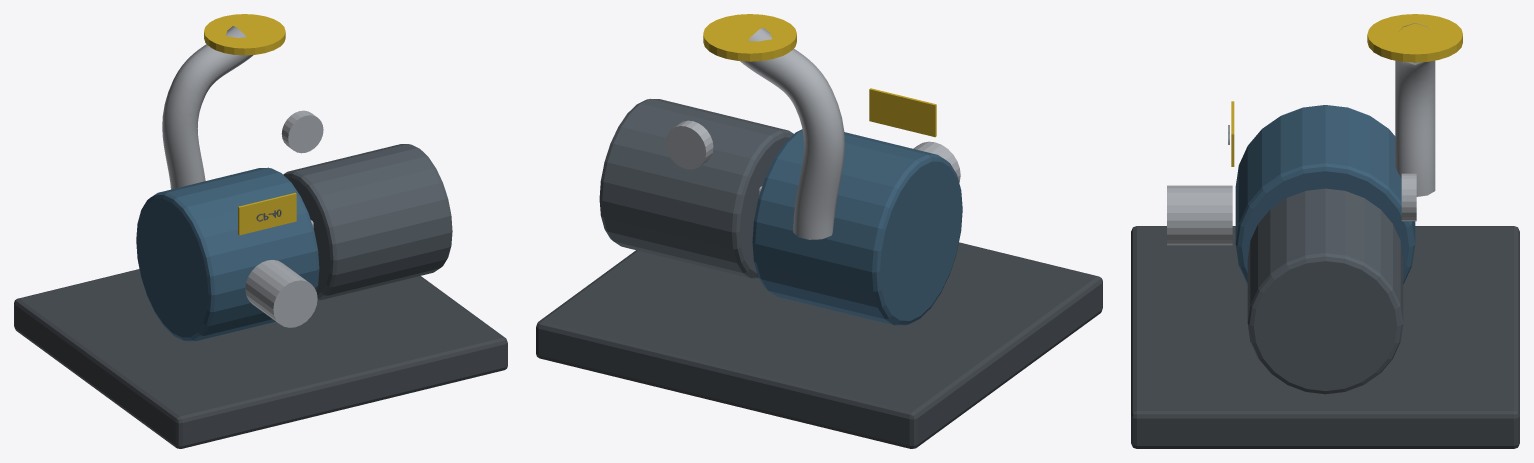
Rendered from aux_pump.glb.
The picture shows the model from 3 angles, left to right: view 1: azimuth 30°, elevation 25°; view 2: azimuth 150°, elevation 25°; view 3: azimuth 270°, elevation 25°; orthographic projection. The views are drawn at different scales.
Visible parts, largest first — view 1: pump_base, pump_body, pump_motor, pump_pipe_up, pump_suction, pump_handwheel, pump_plate, pump_gauge; view 2: pump_base, pump_body, pump_motor, pump_pipe_up, pump_handwheel, pump_plate, pump_gauge; view 3: pump_base, pump_motor, pump_body, pump_pipe_up, pump_suction, pump_handwheel, pump_gauge.
Boxes of the visible parts, <box> form: pump_base: <box>14,269,507,448</box>; pump_body: <box>136,167,319,341</box>; pump_motor: <box>283,144,452,300</box>; pump_pipe_up: <box>162,26,253,189</box>; pump_suction: <box>245,260,317,327</box>; pump_handwheel: <box>204,14,285,55</box>; pump_plate: <box>238,192,296,235</box>; pump_gauge: <box>281,110,323,153</box>; pump_base: <box>536,242,1102,448</box>; pump_body: <box>752,129,962,325</box>; pump_motor: <box>599,98,793,278</box>; pump_pipe_up: <box>740,27,844,239</box>; pump_handwheel: <box>703,14,796,61</box>; pump_plate: <box>869,88,936,137</box>; pump_gauge: <box>665,120,713,169</box>; pump_base: <box>1131,226,1519,448</box>; pump_motor: <box>1247,188,1403,394</box>; pump_body: <box>1235,105,1415,284</box>; pump_pipe_up: <box>1395,23,1435,196</box>; pump_suction: <box>1167,185,1232,245</box>; pump_handwheel: <box>1367,14,1462,62</box>; pump_gauge: <box>1401,173,1416,221</box>.
Size of the model in its own units: 1.5 by 1.26 by 1.3.
